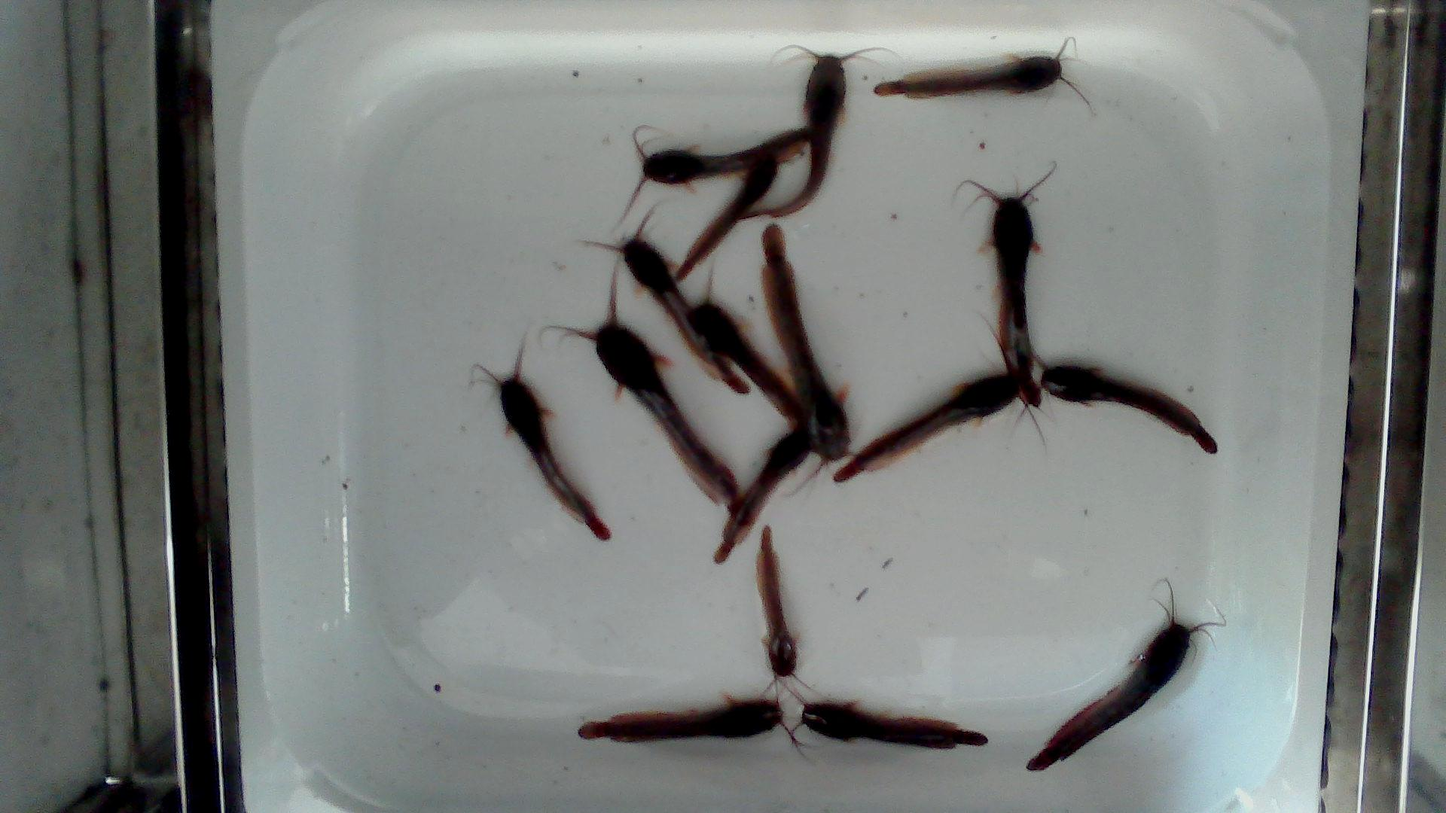lele: (555, 284, 740, 513), (579, 201, 751, 394), (1027, 608, 1208, 770), (744, 43, 899, 217), (833, 370, 1018, 484), (763, 224, 849, 461), (621, 123, 813, 224), (499, 362, 608, 539), (696, 258, 803, 425), (1042, 364, 1216, 453), (676, 156, 779, 284), (716, 426, 810, 562), (874, 51, 1089, 104), (991, 198, 1040, 405), (578, 698, 780, 741), (801, 702, 987, 748), (757, 526, 796, 677)
